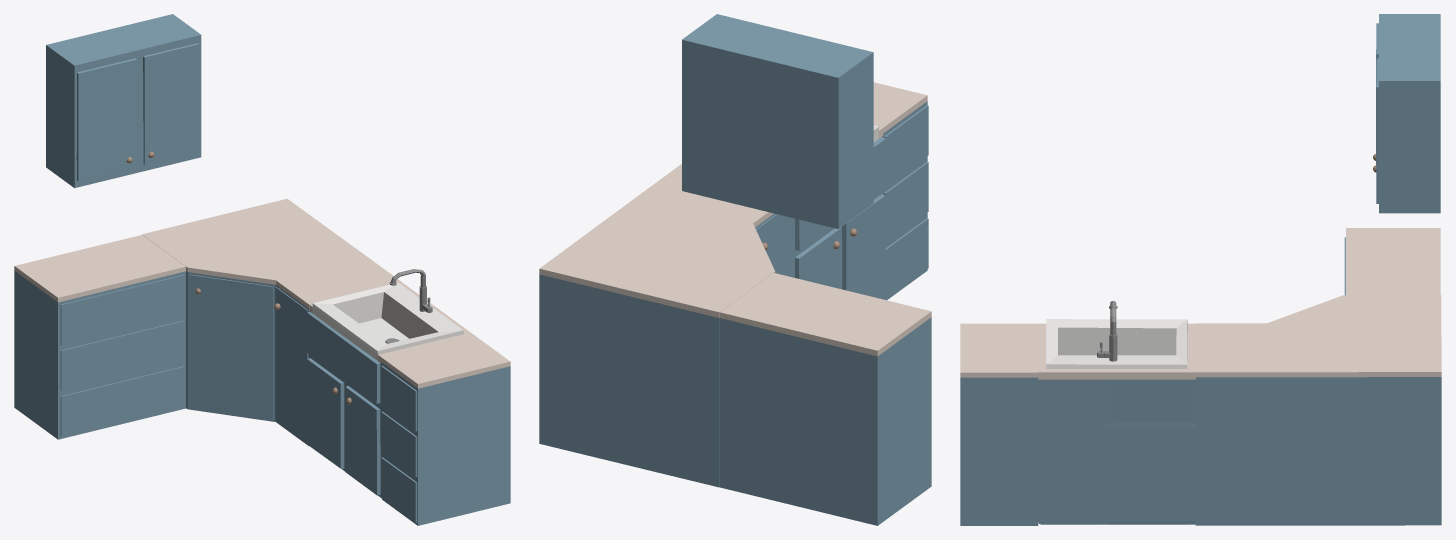
File: Kitchen_set_3.fbx
The picture shows the model from 3 angles, left to right: view 1: azimuth 30°, elevation 25°; view 2: azimuth 150°, elevation 25°; view 3: azimuth 270°, elevation 25°; orthographic projection. The views are drawn at different scales.
Parts seen in each view (by area): view 1: Kitchen_set_3; view 2: Kitchen_set_3; view 3: Kitchen_set_3.
Part boxes in pixels (x1=…): Kitchen_set_3: x1=14, y1=14, x2=510, y2=525; Kitchen_set_3: x1=539, y1=14, x2=931, y2=525; Kitchen_set_3: x1=960, y1=14, x2=1441, y2=525.
Bounding box in the file's own units: 261 × 368 × 324.
